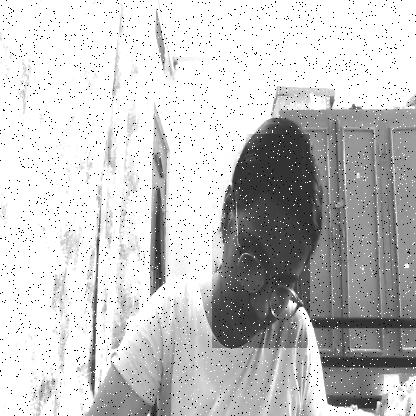Distracted: (212, 134, 310, 348)
